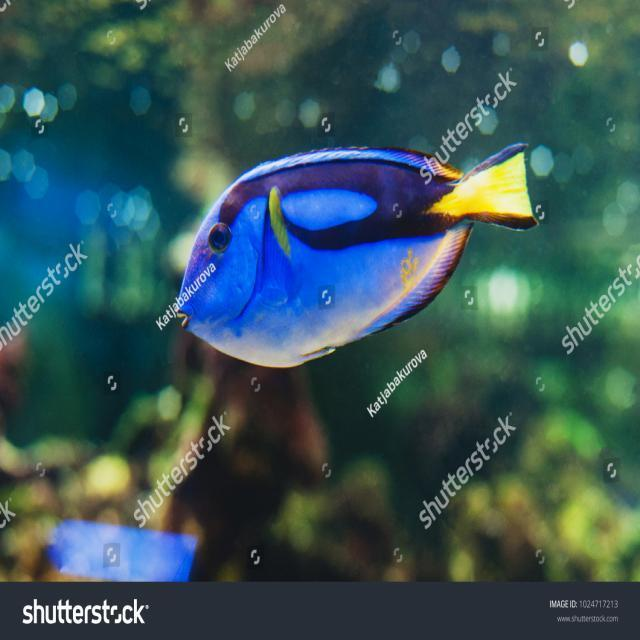TangFish: (175, 142, 536, 373)
